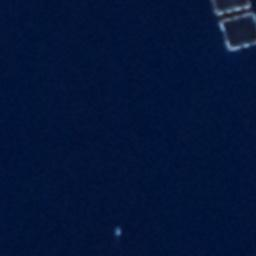square_solid: (214, 8, 256, 54)
